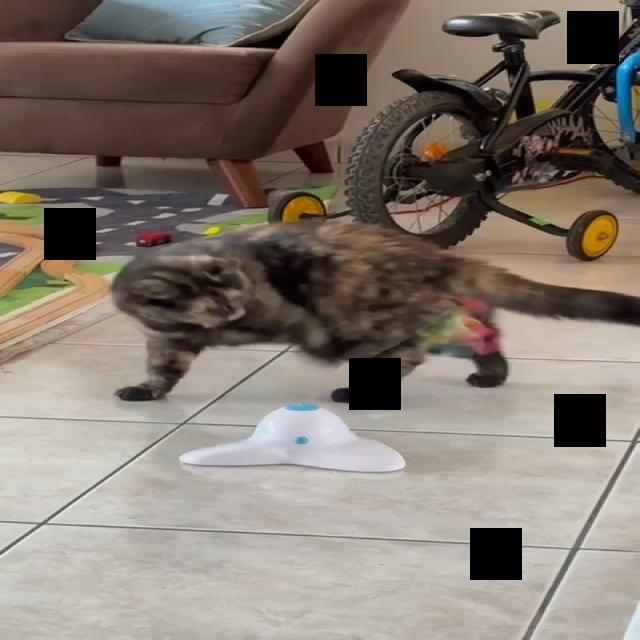authorized: (108, 218, 639, 403)
